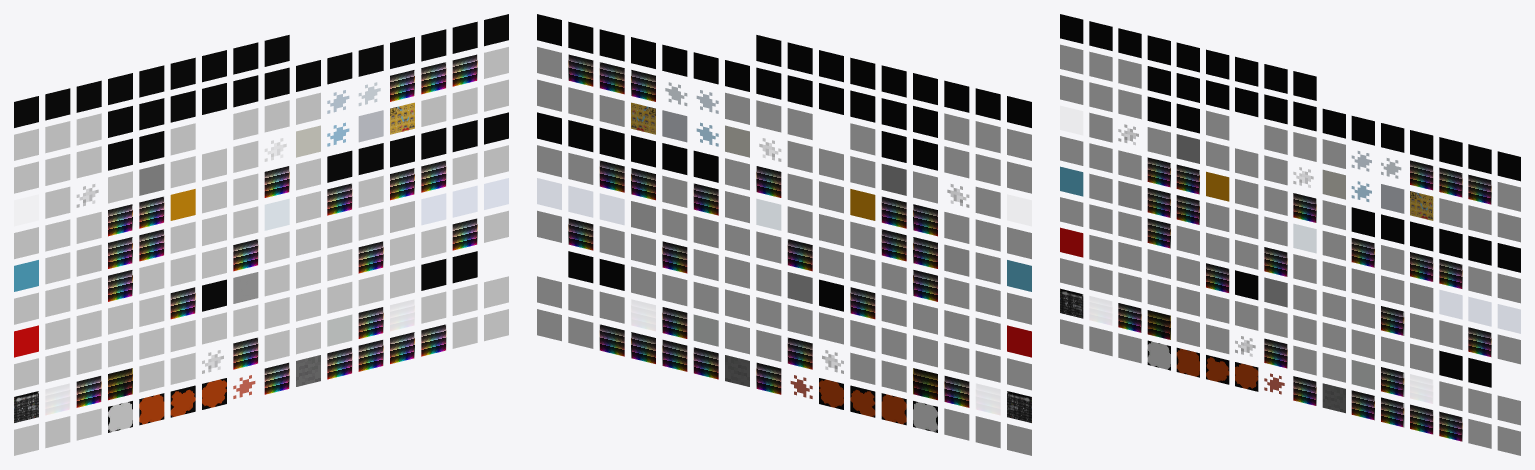
File: MaterialLibrary.glb
The picture shows the model from 3 angles, left to right: view 1: azimuth 30°, elevation 25°; view 2: azimuth 150°, elevation 25°; view 3: azimuth 330°, elevation 25°; orthographic projection. The views are drawn at different scales.
Visible parts, largest first — view 1: Underdog-Regular Atlas Material_0 (×2), JP_NotoSans Atlas Material_0 (×2), NotoSansSC-VariableFont_wght Atlas Material_0 (×2), NotoSansKR Atlas Material (×2), NotoSansTC-VariableFont_wght Atlas Material (×2), Underdog-Regular Atlas Material (×2), JP_NotoSans Atlas Material (×2), NotoSansKR Atlas Material_0 (×2), NotoSansTC-VariableFont_wght Atlas Material_0 (×2), NotoSansSC-VariableFont_wght Atlas Material (×2), EmissiveParticle, Lavaball (+135 smaller); view 2: Underdog-Regular Atlas Material_0 (×2), JP_NotoSans Atlas Material_0 (×2), NotoSansSC-VariableFont_wght Atlas Material_0 (×2), NotoSansKR Atlas Material (×2), NotoSansTC-VariableFont_wght Atlas Material (×2), Underdog-Regular Atlas Material (×2), JP_NotoSans Atlas Material (×2), NotoSansKR Atlas Material_0 (×2), NotoSansTC-VariableFont_wght Atlas Material_0 (×2), NotoSansSC-VariableFont_wght Atlas Material (×2), EmissiveParticle, Lavaball (+135 smaller); view 3: NotoSansSC-VariableFont_wght Atlas Material_0 (×2), Underdog-Regular Atlas Material (×2), NotoSansTC-VariableFont_wght Atlas Material (×2), JP_NotoSans Atlas Material (×2), NotoSansSC-VariableFont_wght Atlas Material (×2), NotoSansKR Atlas Material (×2), NotoSansTC-VariableFont_wght Atlas Material_0 (×2), Underdog-Regular Atlas Material_0 (×2), JP_NotoSans Atlas Material_0 (×2), NotoSansKR Atlas Material_0 (×2), Blood 2, Hidden_VFX_DustExplosion_Simple Burst_Output Particle URP Li (+135 smaller).
Boxes of the visible parts, bbox=[...] form: Underdog-Regular Atlas Material_0 (×2): bbox=[139, 67, 289, 162]; JP_NotoSans Atlas Material_0 (×2): bbox=[139, 98, 477, 283]; NotoSansSC-VariableFont_wght Atlas Material_0 (×2): bbox=[327, 52, 446, 159]; NotoSansKR Atlas Material (×2): bbox=[170, 90, 352, 182]; NotoSansTC-VariableFont_wght Atlas Material (×2): bbox=[421, 29, 477, 151]; Underdog-Regular Atlas Material (×2): bbox=[108, 75, 258, 170]; JP_NotoSans Atlas Material (×2): bbox=[108, 106, 446, 290]; NotoSansKR Atlas Material_0 (×2): bbox=[202, 83, 383, 174]; NotoSansTC-VariableFont_wght Atlas Material_0 (×2): bbox=[452, 21, 508, 144]; NotoSansSC-VariableFont_wght Atlas Material (×2): bbox=[296, 60, 414, 167]; EmissiveParticle: bbox=[233, 337, 258, 369]; Lavaball: bbox=[76, 310, 101, 342]; Underdog-Regular Atlas Material_0 (×2): bbox=[756, 67, 906, 162]; JP_NotoSans Atlas Material_0 (×2): bbox=[568, 98, 906, 283]; NotoSansSC-VariableFont_wght Atlas Material_0 (×2): bbox=[599, 52, 718, 159]; NotoSansKR Atlas Material (×2): bbox=[693, 90, 875, 182]; NotoSansTC-VariableFont_wght Atlas Material (×2): bbox=[568, 29, 624, 151]; Underdog-Regular Atlas Material (×2): bbox=[787, 75, 937, 170]; JP_NotoSans Atlas Material (×2): bbox=[599, 106, 937, 290]; NotoSansKR Atlas Material_0 (×2): bbox=[662, 83, 843, 174]; NotoSansTC-VariableFont_wght Atlas Material_0 (×2): bbox=[537, 21, 593, 144]; NotoSansSC-VariableFont_wght Atlas Material (×2): bbox=[631, 60, 749, 167]; EmissiveParticle: bbox=[787, 337, 812, 369]; Lavaball: bbox=[944, 310, 969, 342]; NotoSansSC-VariableFont_wght Atlas Material_0 (×2): bbox=[1351, 116, 1462, 258]; Underdog-Regular Atlas Material (×2): bbox=[1147, 94, 1287, 126]; NotoSansTC-VariableFont_wght Atlas Material (×2): bbox=[1439, 137, 1491, 265]; JP_NotoSans Atlas Material (×2): bbox=[1147, 66, 1462, 380]; NotoSansSC-VariableFont_wght Atlas Material (×2): bbox=[1322, 108, 1433, 251]; NotoSansKR Atlas Material (×2): bbox=[1206, 80, 1374, 237]; NotoSansTC-VariableFont_wght Atlas Material_0 (×2): bbox=[1468, 144, 1520, 272]; Underdog-Regular Atlas Material_0 (×2): bbox=[1176, 101, 1316, 133]; JP_NotoSans Atlas Material_0 (×2): bbox=[1176, 73, 1491, 387]; NotoSansKR Atlas Material_0 (×2): bbox=[1235, 87, 1404, 244]; Blood 2: bbox=[1206, 355, 1229, 384]; Hidden_VFX_DustExplosion_Simple Burst_Output Particle URP Li: bbox=[1497, 395, 1520, 425].
Size of what is drawn, in the model's own units: 15.8 by 10.8 by 0.
167 materials, 78 textured.
